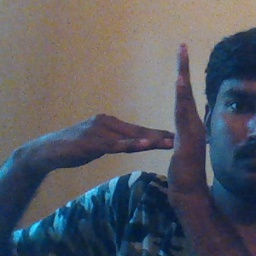Z: (104, 43, 213, 207)
